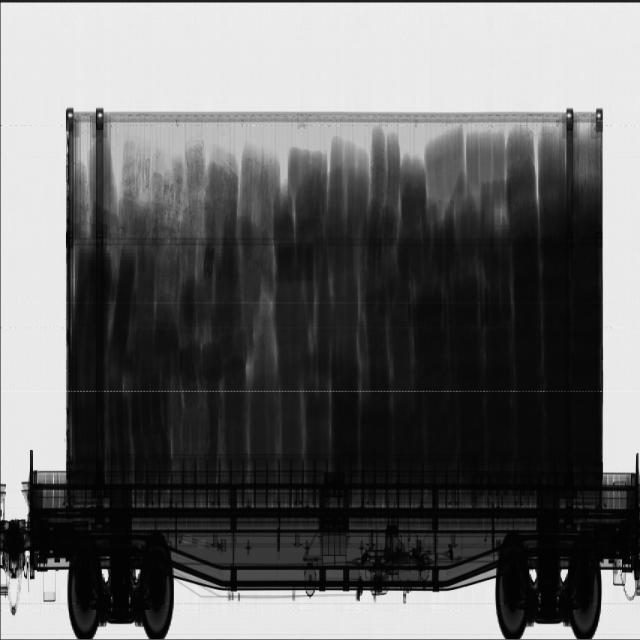clothes: (71, 121, 597, 456)
